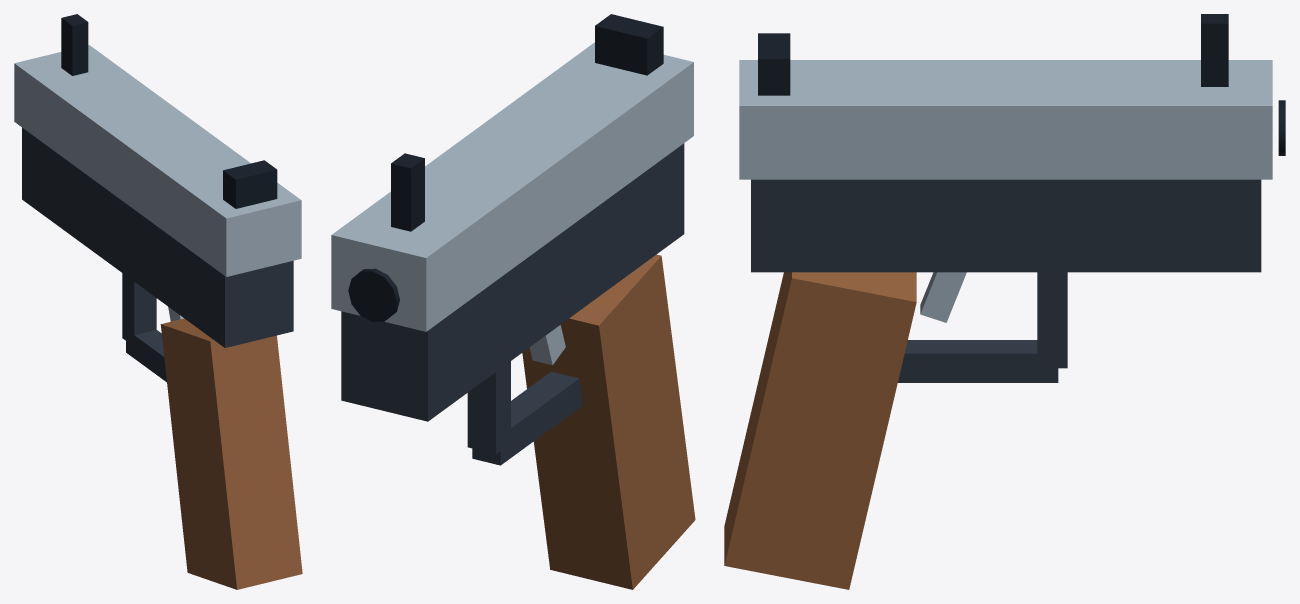
The model's file is pistol.gltf.
3 renders of one model, left to right at view 1: azimuth 30°, elevation 25°; view 2: azimuth 150°, elevation 25°; view 3: azimuth 270°, elevation 25°, orthographic. The views are drawn at different scales.
Visible parts, largest first — view 1: Pistol; view 2: Pistol; view 3: Pistol.
Part boxes in pixels (x1,y1,x2,y2): Pistol: [14, 14, 302, 589]; Pistol: [331, 14, 695, 589]; Pistol: [724, 14, 1285, 589].
Bounding box in the file's own units: 0.047 × 0.2622 × 0.242.
